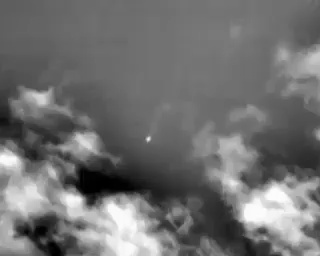AIRPLANE: (144, 133, 154, 145)
